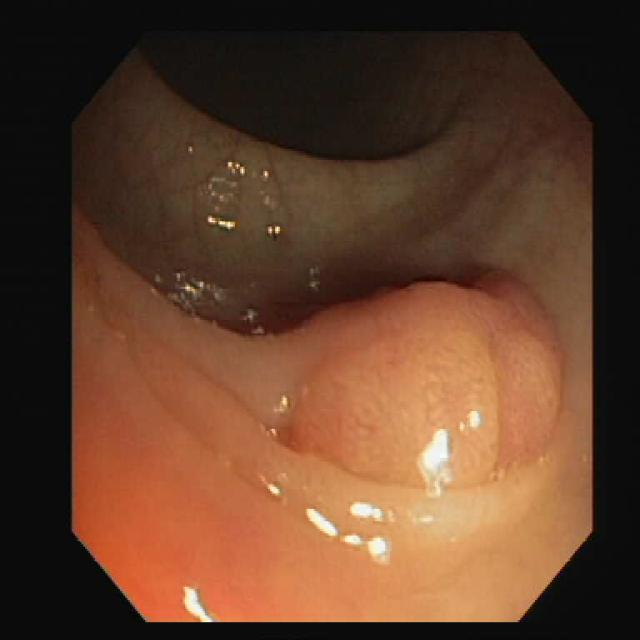tumor: (268, 282, 558, 484)
